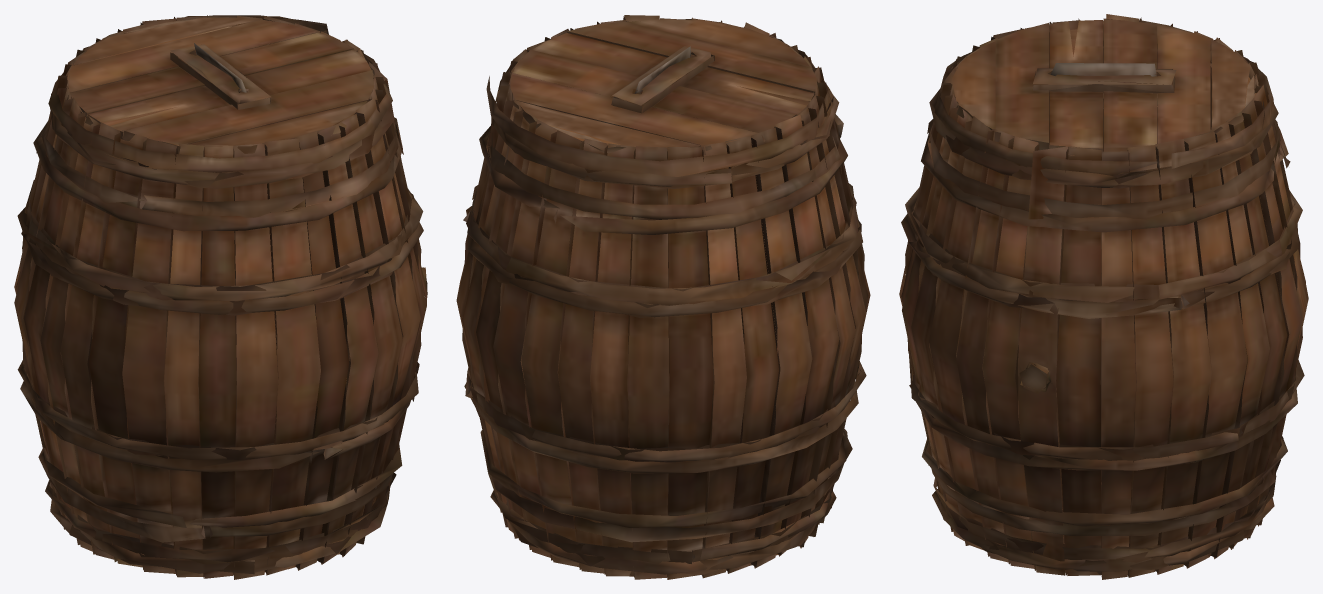
The model's file is barrel_b.glb.
3 renders of one model, left to right at view 1: azimuth 30°, elevation 25°; view 2: azimuth 150°, elevation 25°; view 3: azimuth 270°, elevation 25°, orthographic.
Visible parts, largest first — view 1: wooden_barrels_01_barrel02; view 2: wooden_barrels_01_barrel02; view 3: wooden_barrels_01_barrel02.
Part boxes in pixels (bbox=[...]): wooden_barrels_01_barrel02: bbox=[14, 15, 427, 579]; wooden_barrels_01_barrel02: bbox=[456, 15, 870, 579]; wooden_barrels_01_barrel02: bbox=[899, 14, 1308, 579].
Bounding box in the file's own units: 0.7616 × 0.9212 × 0.7616.
Materials: 1 (1 with a texture image).
